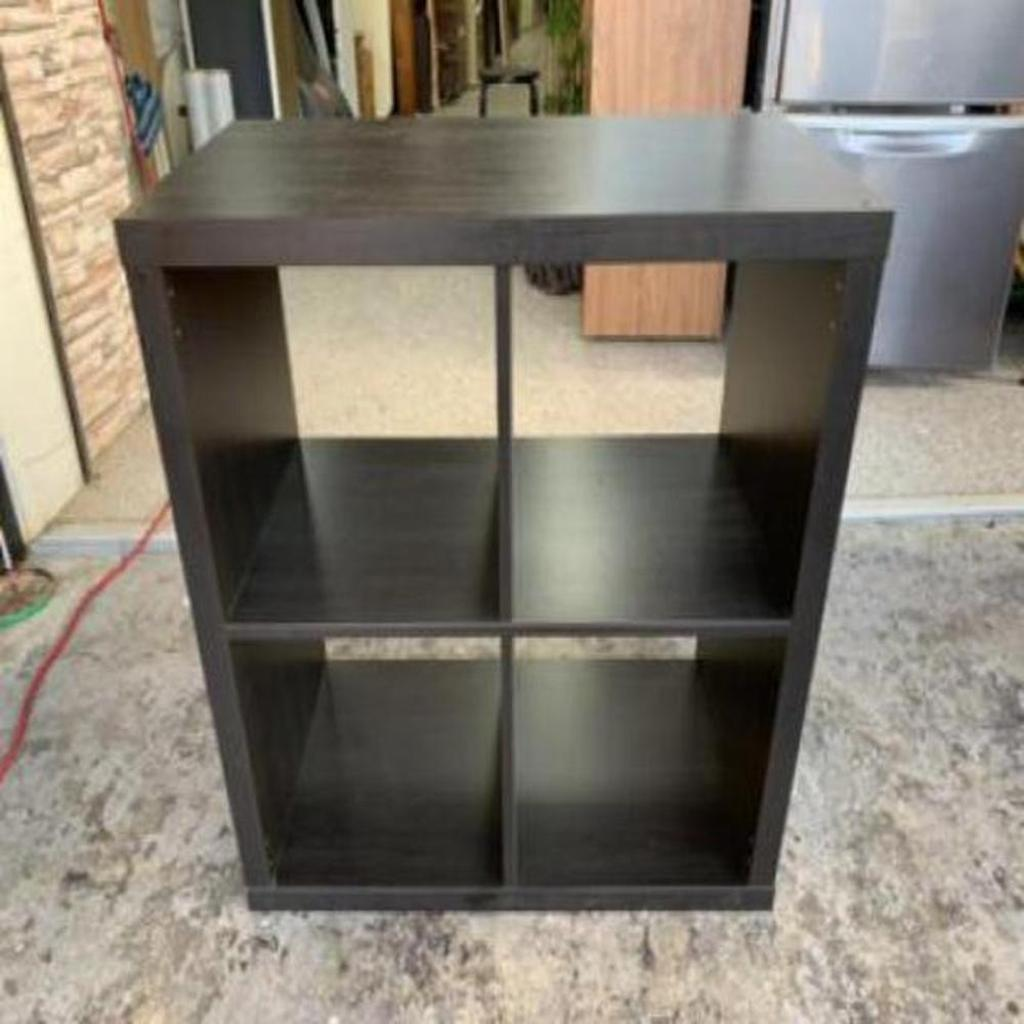lamp: (112, 116, 897, 921)
